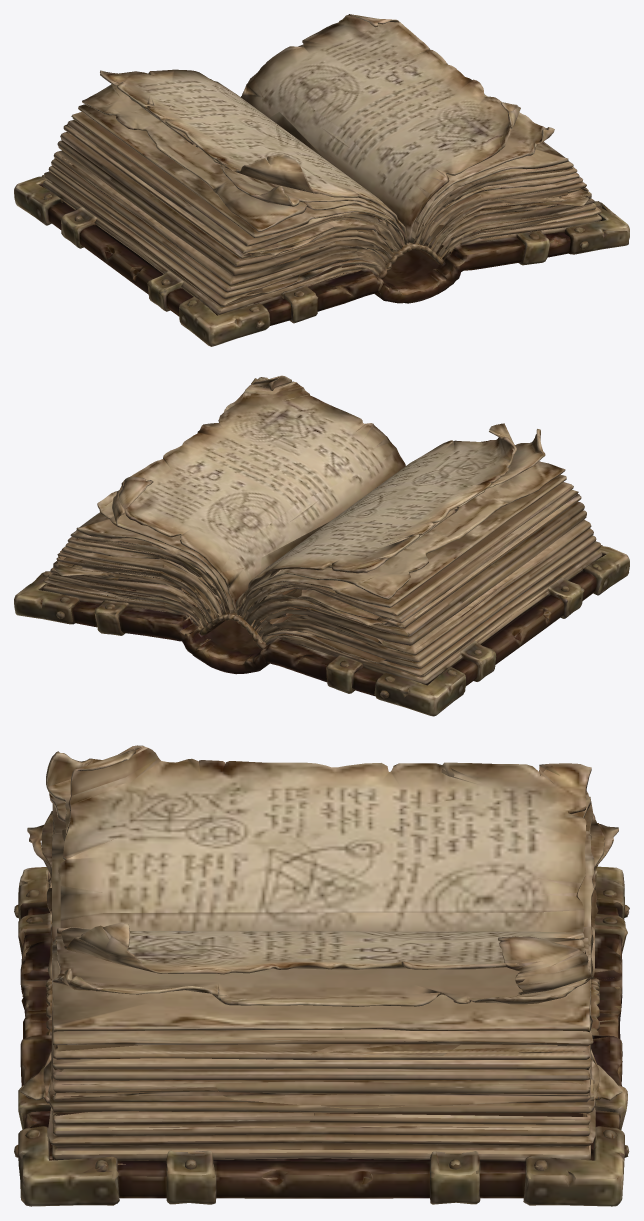
The model's file is open_book.glb.
The picture shows the model from 3 angles, top to bottom: view 1: azimuth 30°, elevation 25°; view 2: azimuth 150°, elevation 25°; view 3: azimuth 270°, elevation 25°; orthographic projection. The views are drawn at different scales.
Bounding box in the file's own units: 0.9565 × 0.3203 × 0.7925.
Materials: 1 (1 with a texture image).
